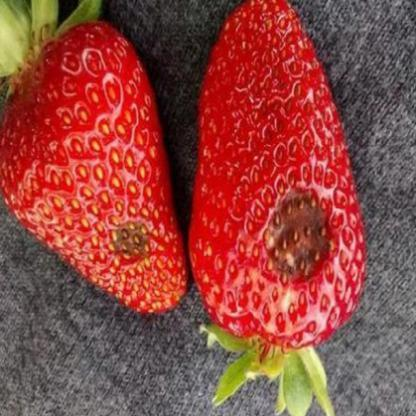Strawberry_Anthracnose_Fruit_Rot: (257, 187, 341, 287), (100, 218, 156, 262)
